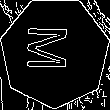M_E: (30, 29, 80, 76)
